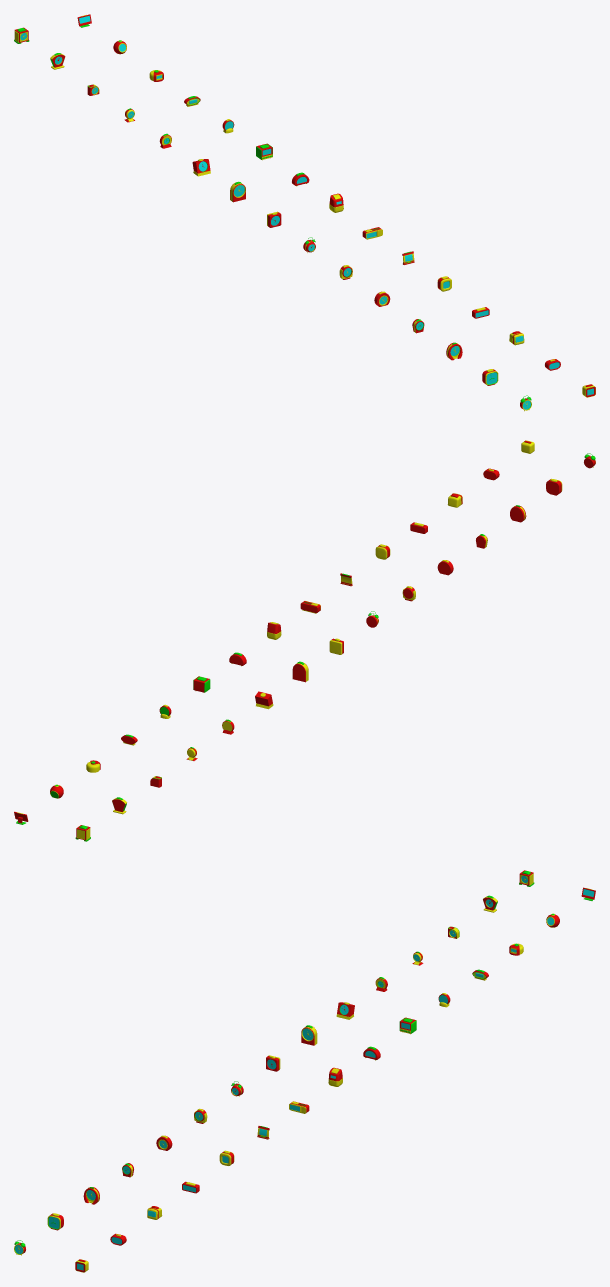
File: alarm_clocks_grp.fbx
3 renders of one model, top to bottom at view 1: azimuth 30°, elevation 25°; view 2: azimuth 150°, elevation 25°; view 3: azimuth 330°, elevation 25°, orthographic.
Bounding box in the file's own units: 125 × 26.48 × 1412.
